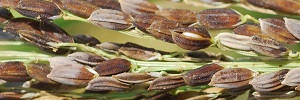RiceSheathBrownRot: (1, 1, 299, 97)
